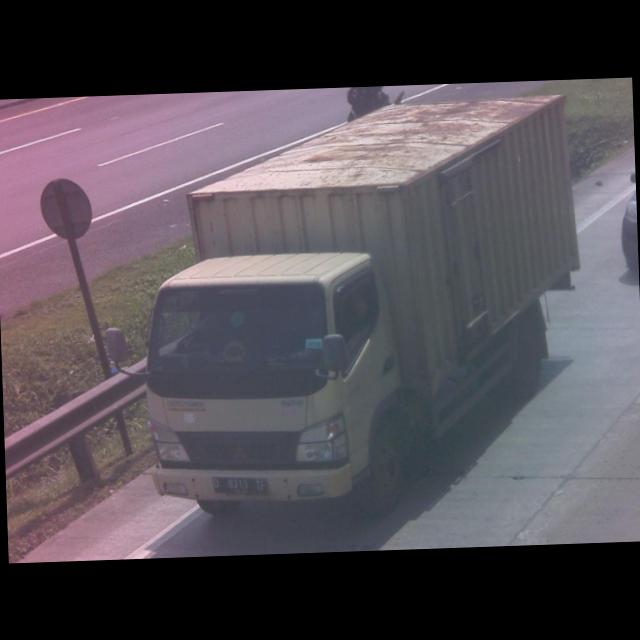plate: (207, 473, 269, 499)
